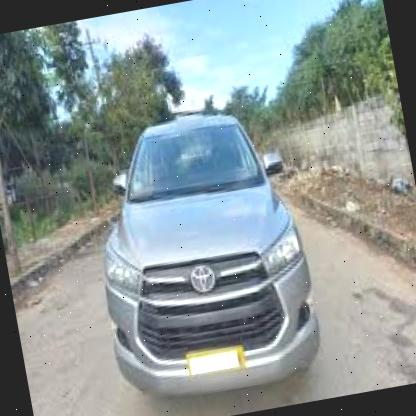car: (66, 87, 335, 411)
